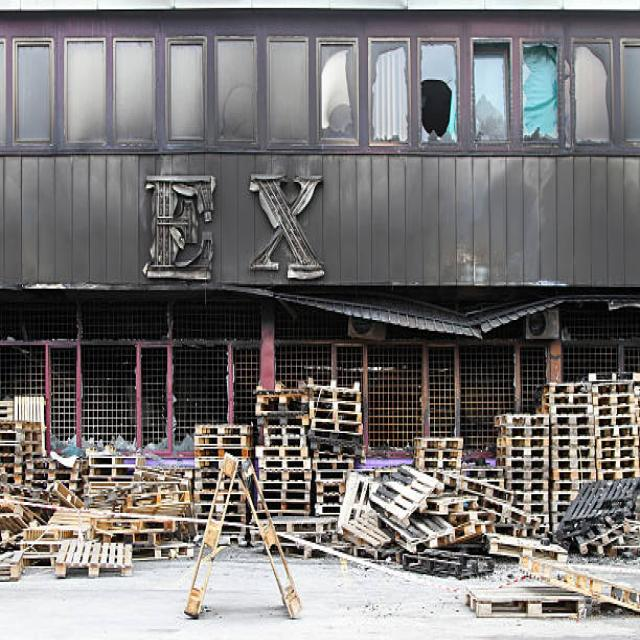Wooden-Pallets: (58, 539, 134, 579), (468, 595, 588, 620), (492, 408, 548, 430), (193, 421, 250, 439), (544, 382, 599, 399), (306, 379, 362, 394), (85, 455, 138, 470), (255, 445, 308, 459), (258, 425, 310, 439), (504, 436, 549, 452), (588, 381, 634, 396), (506, 456, 548, 471)
